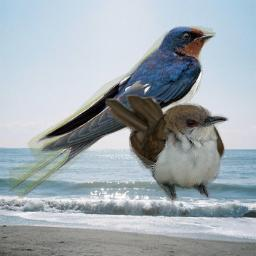Cuckoo: (105, 94, 229, 205)
Swallow: (9, 26, 216, 199)
